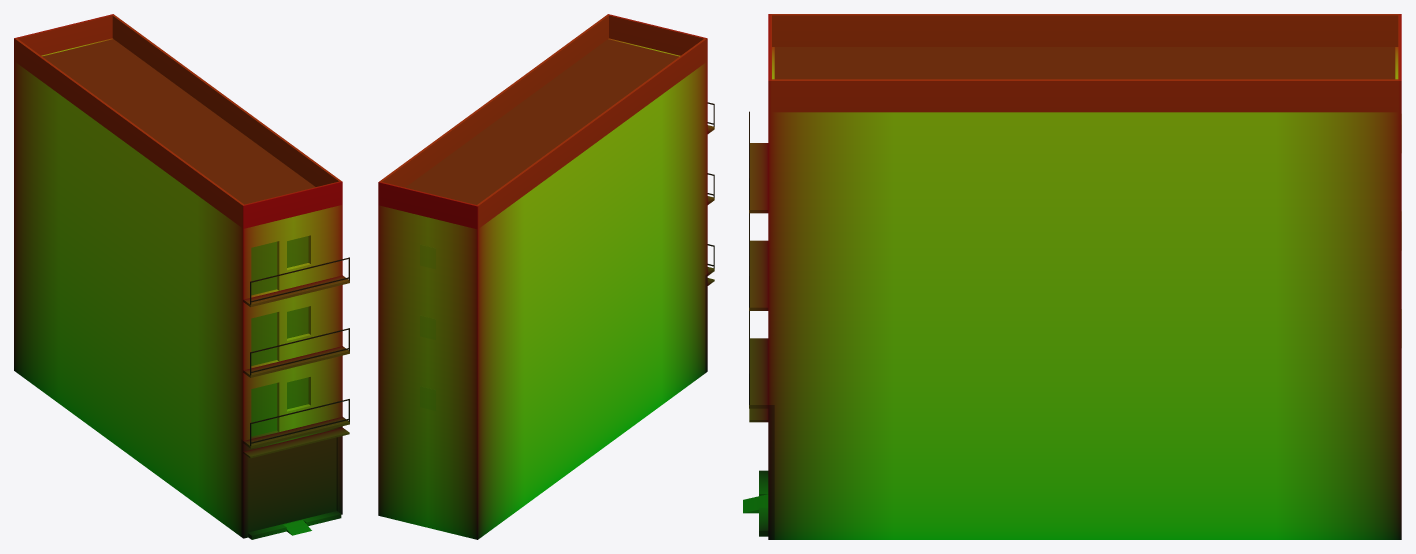
File: nha_pho_5x20.mid.glb
3 views of the same model, side by side, from view 1: azimuth 30°, elevation 25°; view 2: azimuth 150°, elevation 25°; view 3: azimuth 270°, elevation 25° (orthographic). The views are drawn at different scales.
Visible parts, largest first — view 1: nha_pho_5x20, shutter_nha_pho_5x20; view 2: nha_pho_5x20; view 3: nha_pho_5x20.
Part boxes in pixels (x1=…): nha_pho_5x20: x1=14, y1=14, x2=349, y2=539; shutter_nha_pho_5x20: x1=248, y1=437, x2=336, y2=532; nha_pho_5x20: x1=378, y1=14, x2=714, y2=539; nha_pho_5x20: x1=743, y1=14, x2=1401, y2=539.
Size of what is drawn, in the model's own units: 5 by 16 by 20.81.
